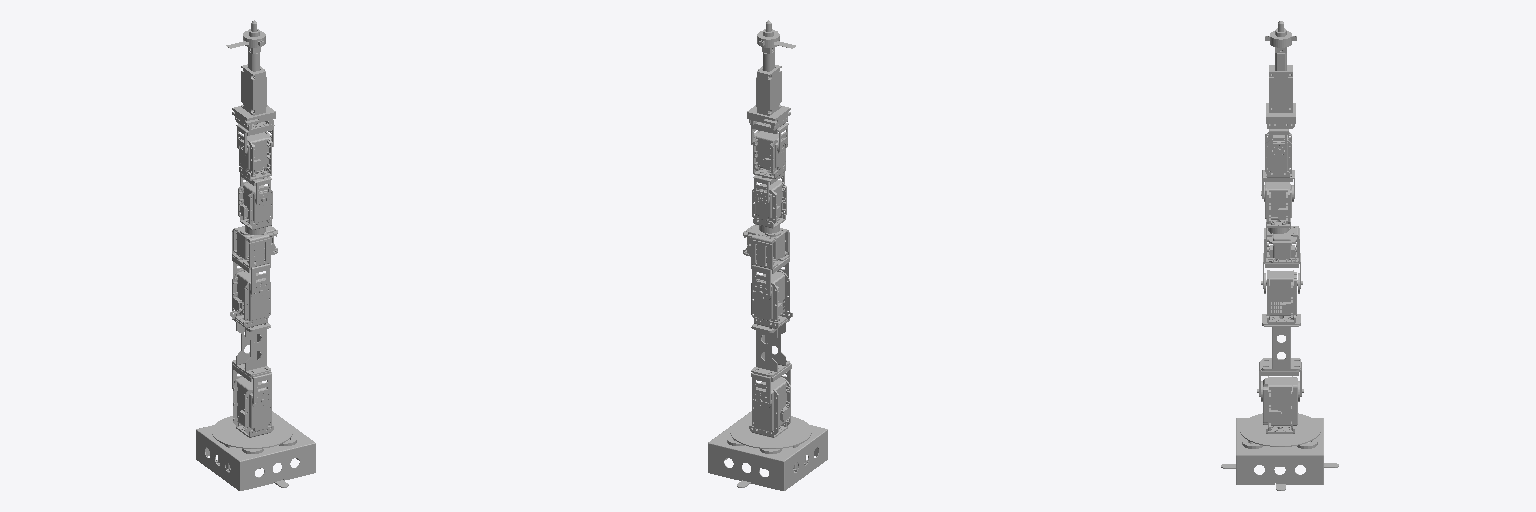
robot.urdf — touchscreen_robot:
<?xml version="1.0" ?>
<!-- =================================================================================== -->
<!-- |    This document was autogenerated by xacro from [local-path]/local-git/MCRL-HRI-001/_software/touchscreen_robot_ws/src/touchscreen_robot_description_pkg/urdf/touchscreen_robot_la.urdf.xacro | -->
<!-- |    EDITING THIS FILE BY HAND IS NOT RECOMMENDED                                 | -->
<!-- =================================================================================== -->
<!-- Touchscreen Robot -->
<robot name="touchscreen_robot">
    <!-- World -->
    <gazebo reference="world">
        <plugin name="gazebo_ros_control">
            <robotNamespace>/</robotNamespace>
        </plugin>
    </gazebo>
    <!-- Base Link -->
    <gazebo reference="base_link">
        <kp>1000000.0</kp>
        <kd>100.0</kd>
        <mu1>30.0</mu1>
        <mu2>30.0</mu2>
        <maxVel>1.0</maxVel>
        <minDepth>0.001</minDepth>
        <material>Gazebo/DarkGrey</material>
    </gazebo>
    <!-- Link1 -->
    <gazebo reference="link_1">
        <kp>1000000.0</kp>
        <kd>100.0</kd>
        <mu1>30.0</mu1>
        <mu2>30.0</mu2>
        <maxVel>1.0</maxVel>
        <minDepth>0.001</minDepth>
        <material>Gazebo/DarkGrey</material>
    </gazebo>
    <!-- Link2 -->
    <gazebo reference="link_2">
        <kp>1000000.0</kp>
        <kd>100.0</kd>
        <mu1>30.0</mu1>
        <mu2>30.0</mu2>
        <maxVel>1.0</maxVel>
        <minDepth>0.001</minDepth>
        <material>Gazebo/DarkGrey</material>
    </gazebo>
    <!-- Link3 -->
    <gazebo reference="link_3">
        <kp>1000000.0</kp>
        <kd>100.0</kd>
        <mu1>30.0</mu1>
        <mu2>30.0</mu2>
        <maxVel>1.0</maxVel>
        <minDepth>0.001</minDepth>
        <material>Gazebo/DarkGrey</material>
    </gazebo>
    <!-- Link4 -->
    <gazebo reference="link_4">
        <kp>1000000.0</kp>
        <kd>100.0</kd>
        <mu1>30.0</mu1>
        <mu2>30.0</mu2>
        <maxVel>1.0</maxVel>
        <minDepth>0.001</minDepth>
        <material>Gazebo/DarkGrey</material>
    </gazebo>
    <!-- Link5 -->
    <gazebo reference="link_5">
        <kp>1000000.0</kp>
        <kd>100.0</kd>
        <mu1>30.0</mu1>
        <mu2>30.0</mu2>
        <maxVel>1.0</maxVel>
        <minDepth>0.001</minDepth>
        <material>Gazebo/DarkGrey</material>
    </gazebo>
    <!-- Link6 -->
    <gazebo reference="link_6">
        <kp>1000000.0</kp>
        <kd>100.0</kd>
        <mu1>30.0</mu1>
        <mu2>30.0</mu2>
        <maxVel>1.0</maxVel>
        <minDepth>0.001</minDepth>
        <material>Gazebo/DarkGrey</material>
    </gazebo>
    <!-- handeye_target_frame -->
    <gazebo reference="handeye_target_frame">
        <kp>1000000.0</kp>
        <kd>100.0</kd>
        <mu1>30.0</mu1>
        <mu2>30.0</mu2>
        <maxVel>1.0</maxVel>
        <minDepth>0.001</minDepth>
        <material>Gazebo/DarkGrey</material>
    </gazebo>
    <!-- linear_link -->
    <gazebo reference="linear_link">
        <kp>1000000.0</kp>
        <kd>100.0</kd>
        <mu1>30.0</mu1>
        <mu2>30.0</mu2>
        <maxVel>1.0</maxVel>
        <minDepth>0.001</minDepth>
        <material>Gazebo/DarkGrey</material>
    </gazebo>
    <gazebo>
        <plugin filename="libgazebo_ros_control.so" name="gazebo_ros_control">
            <robotNamespace />
            <controlPeriod>0.001</controlPeriod>
            <robotSimType>gazebo_ros_control/DefaultRobotHWSim</robotSimType>
        </plugin>
    </gazebo>
    <material name="black">
        <color rgba="0.0 0.0 0.0 1.0" />
    </material>
    <material name="white">
        <color rgba="1.0 1.0 1.0 1.0" />
    </material>
    <material name="red">
        <color rgba="0.8 0.0 0.0 1.0" />
    </material>
    <material name="blue">
        <color rgba="0.0 0.0 0.8 1.0" />
    </material>
    <material name="green">
        <color rgba="0.0 0.8 0.0 1.0" />
    </material>
    <material name="grey">
        <color rgba="0.5 0.5 0.5 1.0" />
    </material>
    <material name="orange">
        <color rgba="1.0 0.4235294117647059 0.0392156862745098 1.0" />
    </material>
    <material name="brown">
        <color rgba="0.8705882352941177 0.8117647058823529 0.7647058823529411 1.0" />
    </material>
    <material name="urdf_exported_color">
        <color rgba="0.75294 0.75294 0.75294 1" />
    </material>
    <!-- TOUCHSCREEN_ROBOT_LINEAR ACTUATOR -->
    <!-- _________________________________ -->
    <!-- World -->
    <link name="world" />
    <!-- World fixed joint -->
    <joint name="world_fixed" type="fixed">
        <parent link="world" />
        <child link="base_link" />
    </joint>
    <!-- Base Link -->
    <link name="base_link">
        <inertial>
            <mass value="0.14193" />
            <origin xyz="-0.006946 -0.00019533 0.029463" rpy="0 0 0" />
            <inertia ixx="0.00011717" ixy="2.9776e-08" ixz="-6.3575e-08" iyy="0.00012562" iyz="1.1602e-08" izz="0.00019319" />
        </inertial>
        <visual>
            <geometry>
                <mesh filename="package://touchscreen_robot_description_pkg/meshes/touchscreen_robot_la/base_link.STL" />
            </geometry>
            <material name="urdf_exported_color" />
        </visual>
        <collision>
            <geometry>
                <mesh filename="package://touchscreen_robot_description_pkg/meshes/touchscreen_robot_la/base_link.STL" />
            </geometry>
        </collision>
    </link>
    <!-- Link 1 -->
    <link name="link_1">
        <visual>
            <geometry>
                <mesh filename="package://touchscreen_robot_description_pkg/meshes/touchscreen_robot_la/link_1.STL" />
            </geometry>
            <material name="urdf_exported_color" />
        </visual>
        <collision>
            <geometry>
                <mesh filename="package://touchscreen_robot_description_pkg/meshes/touchscreen_robot_la/link_1.STL" />
            </geometry>
        </collision>
        <inertial>
            <mass value="0.10456" />
            <origin xyz="-0.0003872 -4.9375e-05 0.034568" rpy="0 0 0" />
            <inertia ixx="5.0475e-05" ixy="-2.143e-09" ixz="-1.0116e-08" iyy="4.2692e-05" iyz="-3.4032e-07" izz="4.2906e-05" />
        </inertial>
    </link>
    <!-- Joint 1 -->
    <joint name="joint_1" type="revolute">
        <parent link="base_link" />
        <child link="link_1" />
        <origin rpy="0 0 0" xyz="0 0 0.051" />
        <axis xyz="0 0 1" />
        <limit effort="3.1" lower="-3.141592653589793" upper="3.141592653589793" velocity="8" />
    </joint>
    <!-- Transmission 1 -->
    <transmission name="tran1">
        <type>transmission_interface/SimpleTransmission</type>
        <joint name="joint_1">
            <hardwareInterface>hardware_interface/PositionJointInterface</hardwareInterface>
        </joint>
        <actuator name="motor1">
            <hardwareInterface>hardware_interface/PositionJointInterface</hardwareInterface>
            <mechanicalReduction>1</mechanicalReduction>
        </actuator>
    </transmission>
    <!--  Link 2-->
    <link name="link_2">
        <visual>
            <geometry>
                <mesh filename="package://touchscreen_robot_description_pkg/meshes/touchscreen_robot_la/link_2.STL" />
            </geometry>
            <material name="urdf_exported_color" />
        </visual>
        <collision>
            <geometry>
                <mesh filename="package://touchscreen_robot_description_pkg/meshes/touchscreen_robot_la/link_2.STL" />
            </geometry>
        </collision>
        <inertial>
            <mass value="0.088808" />
            <origin xyz="0.00031891 0.0019583 0.12113" rpy="0 0 0" />
            <inertia ixx="3.7386e-05" ixy="-4.1967e-11" ixz="1.3574e-08" iyy="2.8904e-05" iyz="5.0692e-07" izz="2.2929e-05" />
        </inertial>
    </link>
    <!--  Joint 2 -->
    <joint name="joint_2" type="revolute">
        <parent link="link_1" />
        <child link="link_2" />
        <origin rpy="0 0 0" xyz="-0.0005 0 0.0563" />
        <axis xyz="0 1 0" />
        <!--changed from -1 to 1 March 22  -->
        <limit effort="20" lower="-1.92" upper="1.92" velocity="8" />
    </joint>
    <!-- Transmission 2 -->
    <transmission name="tran2">
        <type>transmission_interface/SimpleTransmission</type>
        <joint name="joint_2">
            <hardwareInterface>hardware_interface/PositionJointInterface</hardwareInterface>
        </joint>
        <actuator name="motor2">
            <hardwareInterface>hardware_interface/PositionJointInterface</hardwareInterface>
            <mechanicalReduction>1</mechanicalReduction>
        </actuator>
    </transmission>
    <!--  Link 3 -->
    <link name="link_3">
        <visual>
            <geometry>
                <mesh filename="package://touchscreen_robot_description_pkg/meshes/touchscreen_robot_la/link_3.STL" />
            </geometry>
            <material name="urdf_exported_color" />
        </visual>
        <collision>
            <geometry>
                <mesh filename="package://touchscreen_robot_description_pkg/meshes/touchscreen_robot_la/link_3.STL" />
            </geometry>
        </collision>
        <inertial>
            <mass value="0.0622144266577011" />
            <origin xyz="0.0051817 0.0024432 0.055521" rpy="0 0 0" />
            <inertia ixx="1.3036e-05" ixy="-1.1838e-09" ixz="1.8283e-07" iyy="1.648e-05" iyz="-2.2325e-10" izz="1.4977e-05" />
        </inertial>
    </link>
    <!--  Joint 3 (axis xyz="-0.00010512 1 0")-->
    <joint name="joint_3" type="revolute">
        <parent link="link_2" />
        <child link="link_3" />
        <origin rpy="0 0 0" xyz="0 0 0.1578" />
        <axis xyz="0 -1 0" />
        <!--changed from -1 to 1 March 22  -->
        <limit effort="20" lower="-1.92" upper="1.92" velocity="8" />
    </joint>
    <!-- Transmission 3 -->
    <transmission name="tran3">
        <type>transmission_interface/SimpleTransmission</type>
        <joint name="joint_3">
            <hardwareInterface>hardware_interface/PositionJointInterface</hardwareInterface>
        </joint>
        <actuator name="motor3">
            <hardwareInterface>hardware_interface/PositionJointInterface</hardwareInterface>
            <mechanicalReduction>1</mechanicalReduction>
        </actuator>
    </transmission>
    <!--  Link 4 -->
    <link name="link_4">
        <visual>
            <geometry>
                <mesh filename="package://touchscreen_robot_description_pkg/meshes/touchscreen_robot_la/link_4.STL" />
            </geometry>
            <material name="urdf_exported_color" />
        </visual>
        <collision>
            <geometry>
                <mesh filename="package://touchscreen_robot_description_pkg/meshes/touchscreen_robot_la/link_4.STL" />
            </geometry>
        </collision>
        <inertial>
            <mass value="0.052995" />
            <origin xyz="-1.9816e-06 3.4172e-05 0.033429" rpy="0 0 0" />
            <inertia ixx="1.301e-05" ixy="2.2325e-10" ixz="1.1838e-09" iyy="1.0997e-05" iyz="1.8283e-07" izz="8.7538e-06" />
        </inertial>
    </link>
    <!--  Joint 4-->
    <joint name="joint_4" type="revolute">
        <parent link="link_3" />
        <child link="link_4" />
        <origin rpy="0 0 0" xyz="0.004 -0.0025001 0.0826" />
        <axis xyz="0 0 1" />
        <!--changed from -1 to 1 March 22  -->
        <limit effort="20" lower="-3.141592653589793" upper="3.141592653589793" velocity="8" />
    </joint>
    <!-- Transmission 4 -->
    <transmission name="tran4">
        <type>transmission_interface/SimpleTransmission</type>
        <joint name="joint_4">
            <hardwareInterface>hardware_interface/PositionJointInterface</hardwareInterface>
        </joint>
        <actuator name="motor4">
            <hardwareInterface>hardware_interface/PositionJointInterface</hardwareInterface>
            <mechanicalReduction>1</mechanicalReduction>
        </actuator>
    </transmission>
    <!--  Link 5 -->
    <link name="link_5">
        <visual>
            <geometry>
                <mesh filename="package://touchscreen_robot_description_pkg/meshes/touchscreen_robot_la/link_5.STL" />
            </geometry>
            <material name="urdf_exported_color" />
        </visual>
        <collision>
            <geometry>
                <mesh filename="package://touchscreen_robot_description_pkg/meshes/touchscreen_robot_la/link_5.STL" />
            </geometry>
        </collision>
        <inertial>
            <mass value="0.051937" />
            <origin xyz="-3.2918e-05 0.00039798 0.056142" rpy="0 0 0" />
            <inertia ixx="1.2259e-05" ixy="-2.2363e-10" ixz="-1.8283e-07" iyy="1.3365e-05" iyz="1.1838e-09" izz="9.71e-06" />
        </inertial>
    </link>
    <!--  Joint 5-->
    <joint name="joint_5" type="revolute">
        <parent link="link_4" />
        <child link="link_5" />
        <origin rpy="0 0 0" xyz="0 0 0.04995" />
        <axis xyz="0 -1 0" />
        <!--changed from -1 to 1 March 22  -->
        <limit effort="20" lower="-2.0" upper="2.0" velocity="8" />
    </joint>
    <!-- Transmission 5 -->
    <transmission name="tran5">
        <type>transmission_interface/SimpleTransmission</type>
        <joint name="joint_5">
            <hardwareInterface>hardware_interface/PositionJointInterface</hardwareInterface>
        </joint>
        <actuator name="motor5">
            <hardwareInterface>hardware_interface/PositionJointInterface</hardwareInterface>
            <mechanicalReduction>1</mechanicalReduction>
        </actuator>
    </transmission>
    <!--  Link 6 -->
    <link name="link_6">
        <visual>
            <geometry>
                <mesh filename="package://touchscreen_robot_description_pkg/meshes/touchscreen_robot_la/link_6.STL" />
            </geometry>
            <material name="urdf_exported_color" />
        </visual>
        <collision>
            <geometry>
                <mesh filename="package://touchscreen_robot_description_pkg/meshes/touchscreen_robot_la/link_6.STL" />
            </geometry>
        </collision>
        <inertial>
            <mass value="0.065949" />
            <origin xyz="-0.00012385 0.0028119 0.065419" rpy="0 0 0" />
            <inertia ixx="3.1696e-05" ixy="1.1636e-08" ixz="-1.2131e-06" iyy="3.126e-05" iyz="-9.8425e-08" izz="1.1854e-05" />
        </inertial>
    </link>
    <!--  Joint 6-->
    <joint name="joint_6" type="revolute">
        <parent link="link_5" />
        <child link="link_6" />
        <origin rpy="0 0 0" xyz="0 0.0004 0.0723" />
        <axis xyz="1 0 0" />
        <!--changed from -1 to 1 March 22  -->
        <limit effort="20" lower="-2.0" upper="2.0" velocity="8" />
    </joint>
    <!-- Transmission 6 -->
    <transmission name="tran6">
        <type>transmission_interface/SimpleTransmission</type>
        <joint name="joint_6">
            <hardwareInterface>hardware_interface/PositionJointInterface</hardwareInterface>
        </joint>
        <actuator name="motor6">
            <hardwareInterface>hardware_interface/PositionJointInterface</hardwareInterface>
            <mechanicalReduction>1</mechanicalReduction>
        </actuator>
    </transmission>
    <!--  linear_link -->
    <link name="linear_link">
        <inertial>
            <mass value="0.0124248393645787" />
            <origin xyz="0.000135591479063887 2.77555756156289e-17 0.0459721322420806" rpy="0 0 0" />
            <inertia ixx="9.86019593697948e-07" ixy="3.29834778676727e-22" ixz="-5.36747709611266e-09" iyy="8.64419378255042e-07" iyz="-2.33368343375329e-23" izz="1.0672726099387e-06" />
        </inertial>
        <visual>
            <origin rpy="0 0 0" xyz="0 0 0" />
            <geometry>
                <mesh filename="package://touchscreen_robot_description_pkg/meshes/touchscreen_robot_la/linear_link.STL" />
            </geometry>
            <material name="">
                <color rgba="0.752941176470588 0.752941176470588 0.752941176470588 1" />
            </material>
        </visual>
        <collision>
            <origin rpy="0 0 0" xyz="0 0 0" />
            <geometry>
                <mesh filename="package://touchscreen_robot_description_pkg/meshes/touchscreen_robot_la/linear_link.STL" />
            </geometry>
        </collision>
    </link>
    <!-- Linear Joint -->
    <joint name="linear_joint" type="fixed">
        <origin rpy="0 0 0" xyz="-0.00025 0.003 0.105" />
        <parent link="link_6" />
        <child link="linear_link" />
        <axis xyz="0 0 1" />
        <limit effort="20" lower="0.0" upper="0.029" velocity="8" />
    </joint>
    <!-- Transmission 6 -->
    <transmission name="tranLinear">
        <type>transmission_interface/SimpleTransmission</type>
        <joint name="linear_joint">
            <hardwareInterface>hardware_interface/PositionJointInterface</hardwareInterface>
        </joint>
        <actuator name="motorLinear">
            <hardwareInterface>hardware_interface/PositionJointInterface</hardwareInterface>
            <mechanicalReduction>1</mechanicalReduction>
        </actuator>
    </transmission>
    <!-- Reference frame - link tip of stylus -->
    <link name="link_tip" />
    <!-- Reference frame - tip of stylus -->
    <!-- <joint name="joint_tip" type="fixed">
    <parent link="linear_link"/>
    <child link="link_tip"/>
    <origin xyz="0.00 0.00 0.0745" rpy="0 0 0" />
  </joint> -->
    <joint name="joint_tip" type="fixed">
        <parent link="link_6" />
        <child link="link_tip" />
        <origin rpy="0 0 0" xyz="0.00 0.00 0.1795" />
    </joint>
</robot>

--- Render facts (derived) ---
Views: 3 orthographic renders of the robot side by side, from view 1: azimuth 30°, elevation 25°; view 2: azimuth 150°, elevation 25°; view 3: azimuth 270°, elevation 25°.
Model touchscreen_robot with 10 links and 9 joints (6 revolute, 3 fixed), rooted at world, posed every joint at zero.
Visible links, largest first — view 1: base_link, link_2, link_1, link_6, link_3, link_5, link_4, linear_link; view 2: base_link, link_2, link_1, link_6, link_3, link_5, link_4, linear_link; view 3: base_link, link_1, link_2, link_6, link_3, link_4, link_5, linear_link.
Boxes of the visible links, x1,y1,x2,y2 form: base_link: [196, 411, 315, 490]; link_2: [230, 269, 271, 404]; link_1: [212, 377, 292, 448]; link_6: [232, 51, 275, 152]; link_3: [232, 226, 277, 295]; link_5: [239, 132, 272, 203]; link_4: [238, 182, 272, 234]; linear_link: [226, 20, 265, 53]; base_link: [708, 411, 827, 490]; link_2: [751, 270, 792, 404]; link_1: [730, 377, 811, 448]; link_6: [747, 51, 790, 151]; link_3: [743, 225, 789, 296]; link_5: [752, 131, 786, 202]; link_4: [752, 180, 786, 233]; linear_link: [757, 20, 795, 53]; base_link: [1221, 418, 1338, 490]; link_1: [1240, 376, 1320, 446]; link_2: [1259, 270, 1302, 396]; link_6: [1266, 53, 1295, 152]; link_3: [1263, 226, 1300, 288]; link_4: [1261, 182, 1293, 233]; link_5: [1262, 132, 1294, 198]; linear_link: [1265, 21, 1296, 52].
Size in the robot's own frame: 0.1375 by 0.157 by 0.6495 metres.
Meshes: 8 distinct files referenced, 8 mesh visuals loaded (8 binary STL).